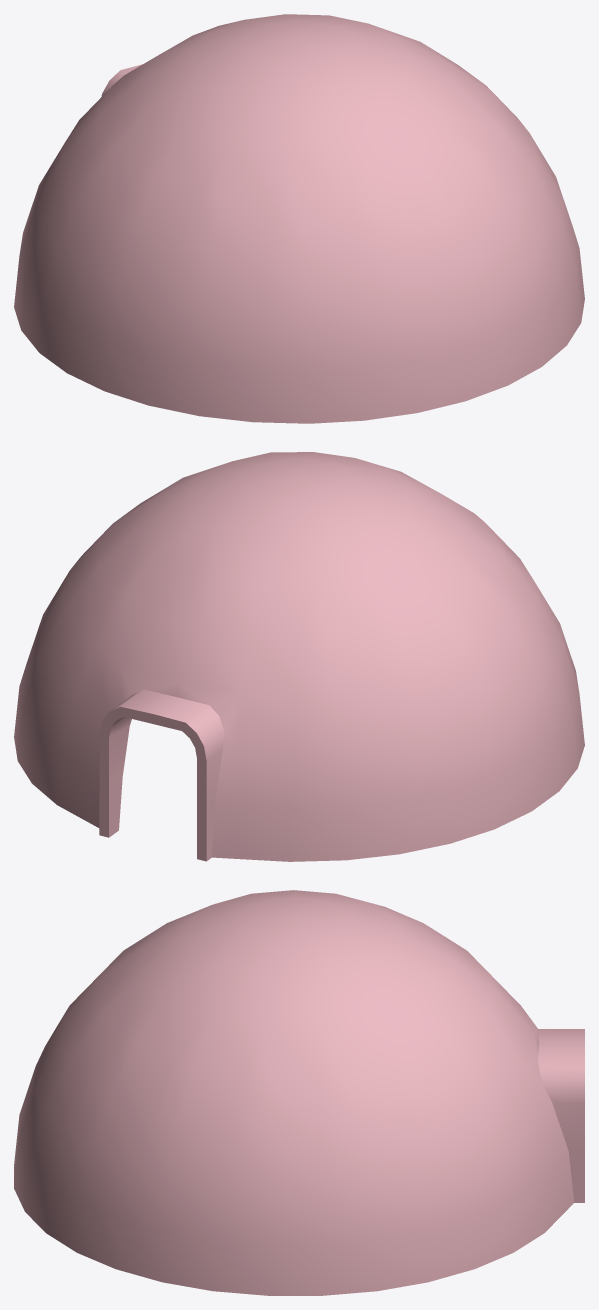
Rendered from HouseShell_01_5r.fbx.
The picture shows the model from 3 angles, top to bottom: view 1: azimuth 30°, elevation 25°; view 2: azimuth 150°, elevation 25°; view 3: azimuth 270°, elevation 25°; orthographic projection.
Visible parts, largest first — view 1: HouseShell_01_5r; view 2: HouseShell_01_5r; view 3: HouseShell_01_5r.
Part boxes in pixels (x1,y1,x2,y2): HouseShell_01_5r: (14, 14, 584, 423); HouseShell_01_5r: (14, 452, 584, 861); HouseShell_01_5r: (14, 890, 584, 1295).
Size of the model in its own units: 1020 by 520 by 1035.
